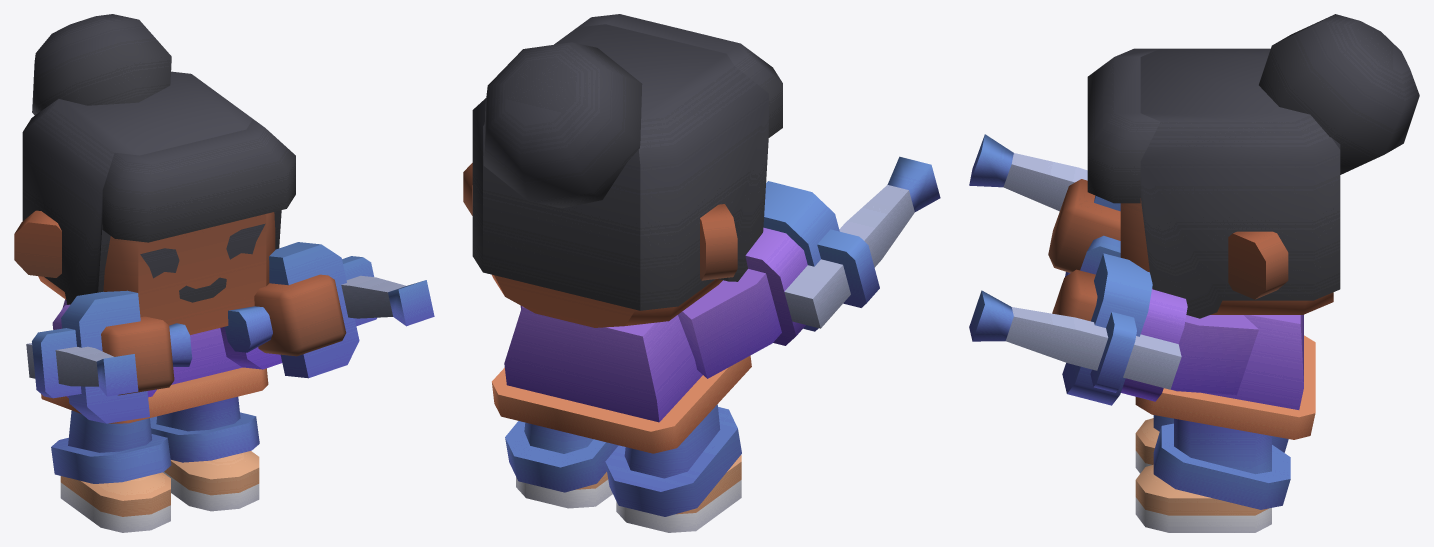
Rendered from character-female-a.glb.
The picture shows the model from 3 angles, left to right: view 1: azimuth 30°, elevation 25°; view 2: azimuth 150°, elevation 25°; view 3: azimuth 270°, elevation 25°; orthographic projection. The views are drawn at different scales.
Visible parts, largest first — view 1: head-mesh, body-mesh; view 2: head-mesh, body-mesh; view 3: head-mesh, body-mesh.
Boxes of the visible parts, x1,y1,x2,y2 form: head-mesh: [14, 14, 295, 334]; body-mesh: [26, 242, 434, 532]; head-mesh: [463, 14, 782, 327]; body-mesh: [492, 156, 940, 532]; head-mesh: [1087, 14, 1419, 318]; body-mesh: [969, 134, 1315, 532].
Bounding box in the file's own units: 0.6305 × 0.7775 × 0.6775.
Materials: 1 (1 with a texture image).
